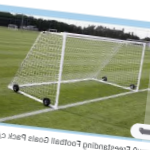goals: (8, 29, 148, 111)
